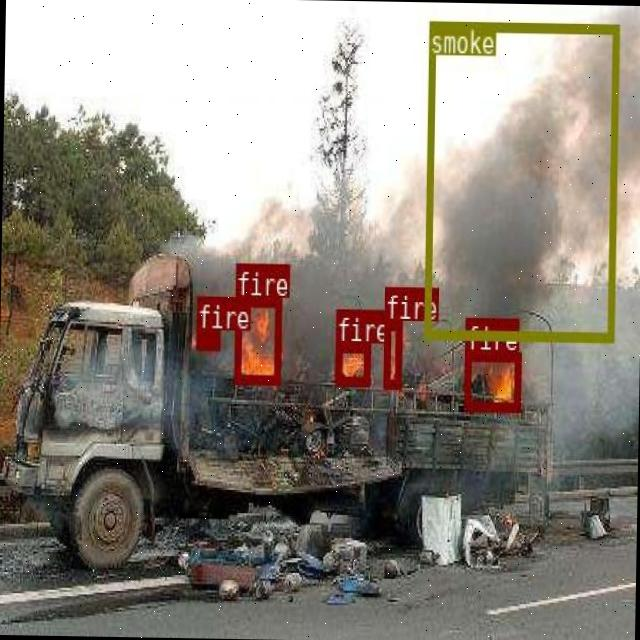fire: (232, 294, 280, 384), (462, 350, 520, 410), (334, 341, 369, 384), (381, 319, 401, 385), (196, 328, 218, 347)
smoke: (424, 20, 618, 339)
